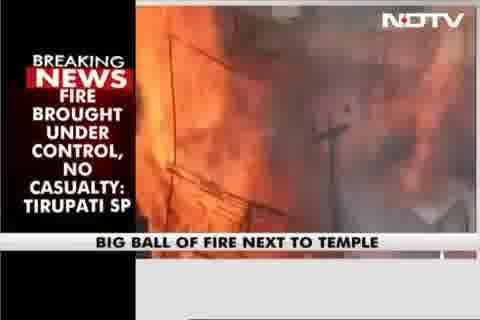fire: (129, 12, 232, 228)
